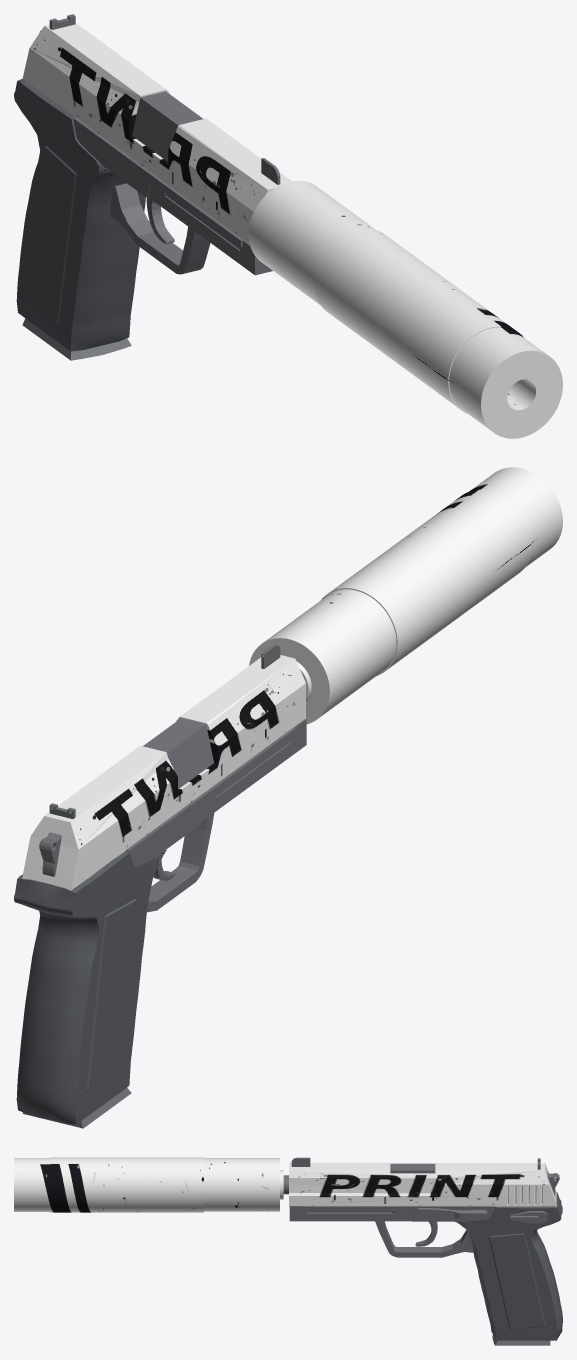
Rendered from usp_s_print.glb.
3 views of the same model, one above another, from view 1: azimuth 30°, elevation 25°; view 2: azimuth 150°, elevation 25°; view 3: azimuth 270°, elevation 25° (orthographic). The views are drawn at different scales.
Parts seen in each view (by area): view 1: Suppressor, Slide, Handle, Grip 2, USP-S Body, Trigger Guard, Cube, Mag, Trigger; view 2: Suppressor, Handle, Slide, Grip 2, USP-S Body, Cube, Trigger Guard; view 3: Suppressor, Slide, Handle, Grip 1, USP-S Body, Trigger Guard, Mag Release, Cube, Mag, Safety.
Part boxes in pixels (x1,y1,x2,y2): Suppressor: (248, 180, 562, 438); Slide: (22, 23, 291, 243); Handle: (14, 79, 145, 351); Grip 2: (27, 146, 76, 322); USP-S Body: (73, 117, 272, 275); Trigger Guard: (110, 183, 210, 274); Cube: (132, 91, 202, 161); Mag: (22, 318, 131, 360); Trigger: (146, 197, 174, 243); Suppressor: (249, 467, 562, 724); Handle: (14, 850, 166, 1124); Slide: (22, 655, 305, 890); Grip 2: (86, 899, 136, 1091); USP-S Body: (125, 719, 306, 866); Cube: (143, 718, 213, 788); Trigger Guard: (147, 813, 214, 912); Suppressor: (14, 1157, 283, 1212); Slide: (289, 1162, 556, 1206); Handle: (455, 1192, 562, 1340); Grip 1: (489, 1233, 545, 1329); USP-S Body: (289, 1206, 494, 1221); Trigger Guard: (375, 1221, 473, 1257); Mag Release: (415, 1208, 487, 1220); Cube: (390, 1163, 435, 1173); Mag: (492, 1335, 550, 1345); Safety: (510, 1211, 547, 1223).
Bounding box in the file's own units: 0.6187 × 2.21 × 6.15.
Materials: 26 (3 with a texture image).
